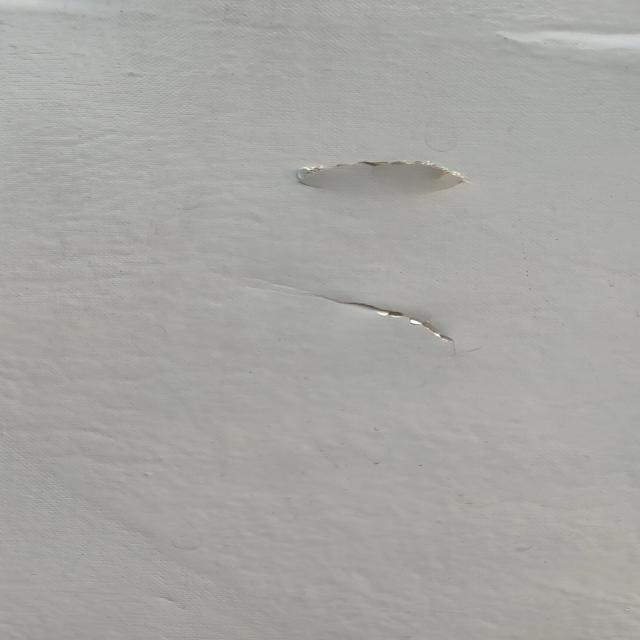Scratches: (270, 138, 490, 203), (301, 288, 490, 346)
